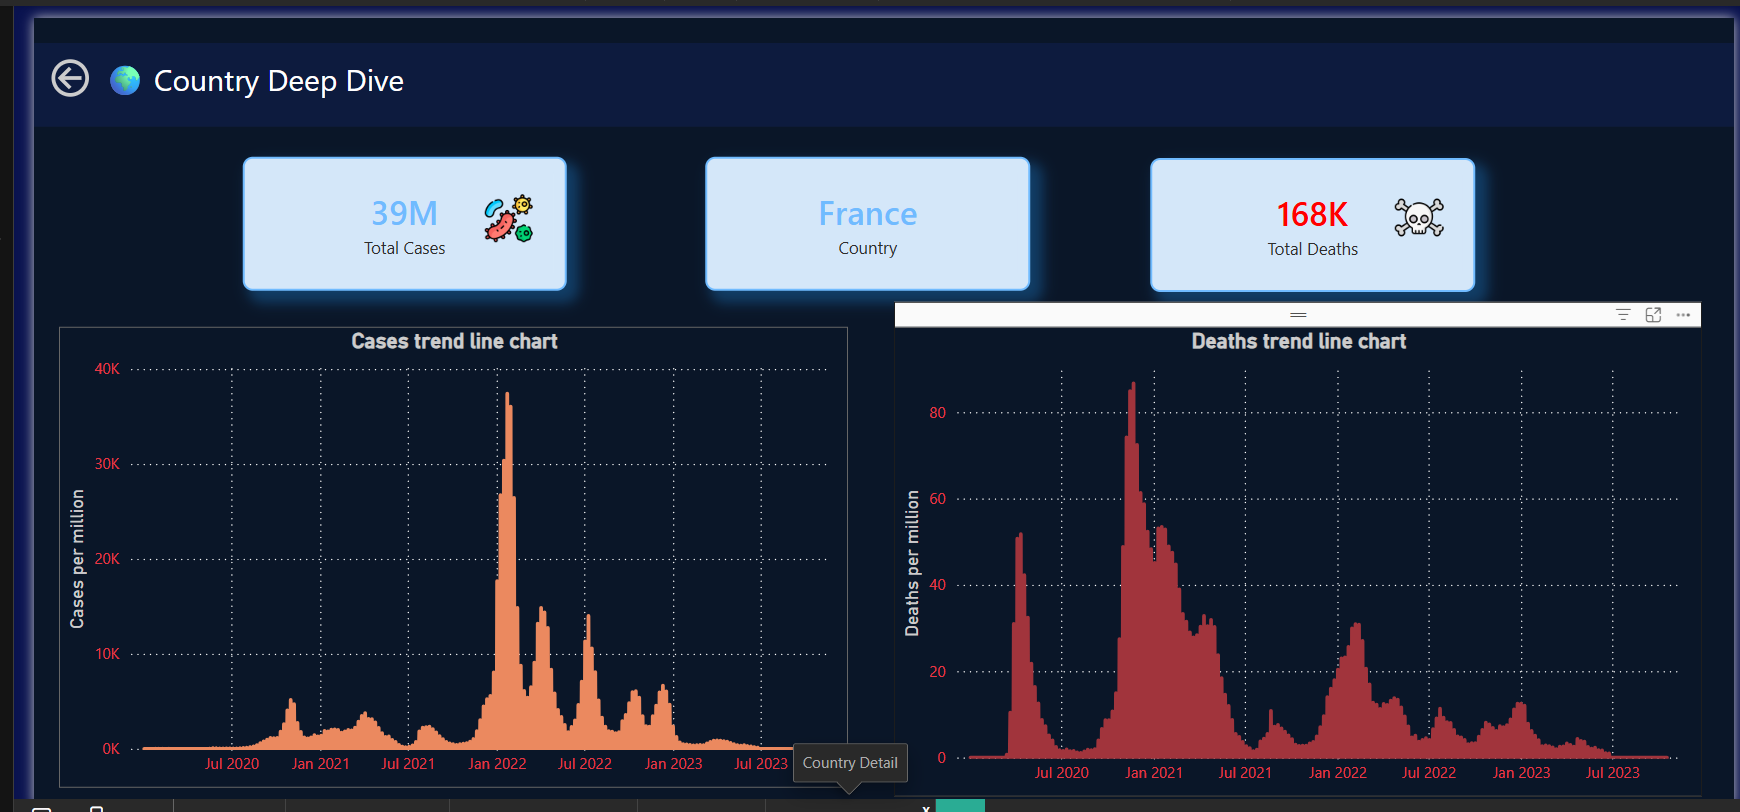

The page's visual inventory and layout, read from the dashboard file:
{"tool":"powerbi","page":{"name":"Country Detail","canvas":[1360,610],"ordinal":4},"visuals":[{"type":"shape","box":[0,0,1360,67],"z":0},{"type":"actionButton","box":[9,8,51,40],"z":1000},{"type":"cardVisual","fields":{"Data":["_Measures.Total Cases"]},"box":[166.7,90.8,259.8,106.9],"z":2000},{"type":"cardVisual","fields":{"Data":["_Measures.Total Deaths"]},"box":[893.1,92,259.8,106.9],"z":3000},{"type":"image","box":[350.6,120.7,57.5,37.9],"z":4000},{"type":"image","box":[1082.8,119.5,50.6,39.1],"z":5000},{"type":"lineChart","title":"Cases trend line chart","fields":{"Y":["Sum(Covid_Global.new_cases_per_million)"],"Category":["Covid_Global.date"]},"box":[20,227,631,369],"z":6000},{"type":"cardVisual","fields":{"Data":["Min(Covid_Global.location)"]},"box":[536.8,90.8,259.8,106.9],"z":7000},{"type":"textbox","box":[50.6,8,270.1,50.6],"z":8000},{"type":"lineChart","title":"Deaths trend line chart","fields":{"Category":["Covid_Global.date"],"Y":["Sum(Covid_Global.new_deaths_per_million)"]},"box":[688,227,646,376],"z":9000}]}

Visuals, with their boxes on the page's 1360x610 design canvas (x1, y1, x2, y2). These are canvas units, not pixel positions in the 1740x812 screenshot, which may show the page scaled, cropped or inside an application window:
shape: <bbox>0, 0, 1360, 67</bbox>
actionButton: <bbox>9, 8, 60, 48</bbox>
cardVisual - _Measures.Total Cases: <bbox>167, 91, 426, 198</bbox>
cardVisual - _Measures.Total Deaths: <bbox>893, 92, 1153, 199</bbox>
image: <bbox>351, 121, 408, 159</bbox>
image: <bbox>1083, 120, 1133, 159</bbox>
"Cases trend line chart" lineChart: <bbox>20, 227, 651, 596</bbox>
cardVisual - Min(Covid_Global.location): <bbox>537, 91, 797, 198</bbox>
textbox: <bbox>51, 8, 321, 59</bbox>
"Deaths trend line chart" lineChart: <bbox>688, 227, 1334, 603</bbox>
